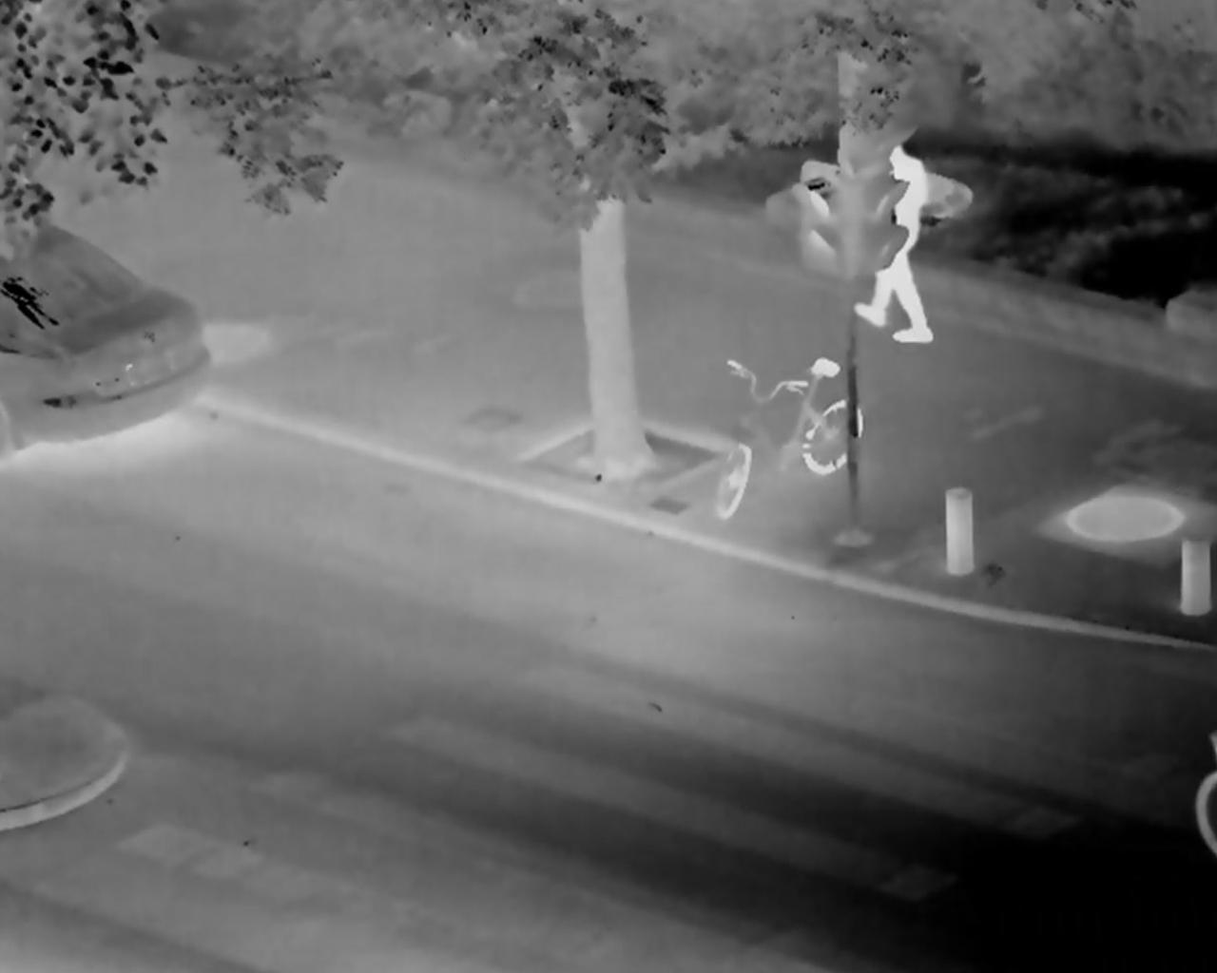person: (844, 127, 933, 345)
